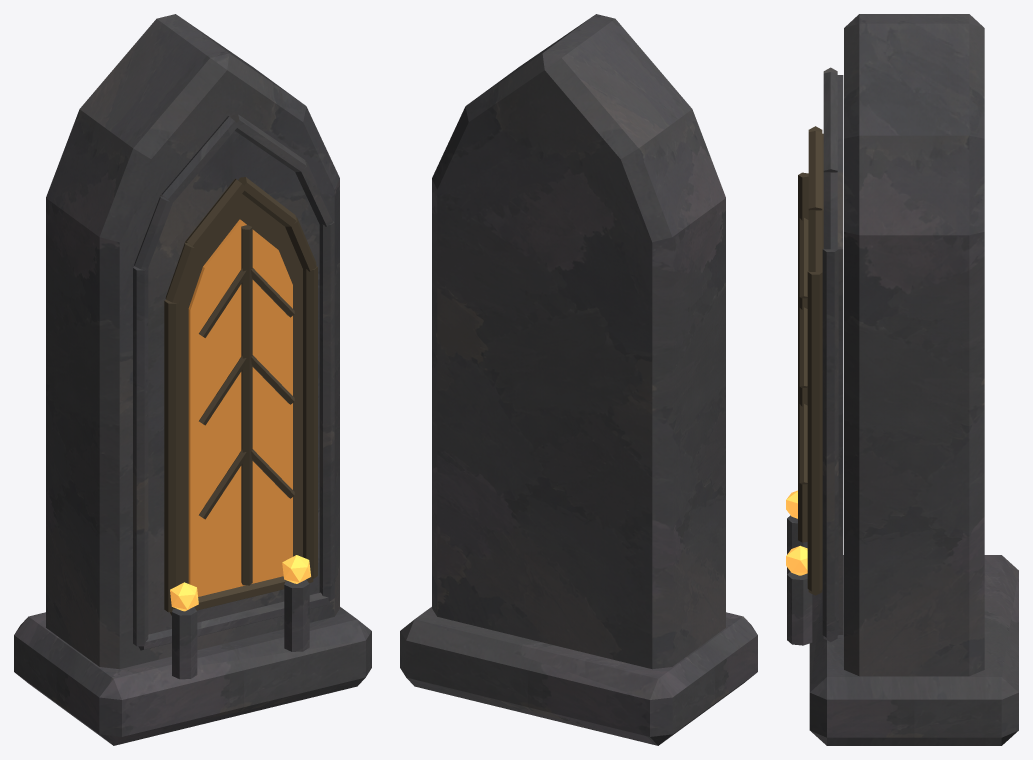
File: memorial.glb
The picture shows the model from 3 angles, left to right: view 1: azimuth 30°, elevation 25°; view 2: azimuth 150°, elevation 25°; view 3: azimuth 270°, elevation 25°; orthographic projection. The views are drawn at different scales.
Parts seen in each view (by area): view 1: memorial; view 2: memorial; view 3: memorial.
Boxes of the visible parts, x1,y1,x2,y2 form: memorial: [14, 14, 371, 745]; memorial: [400, 14, 757, 745]; memorial: [786, 14, 1018, 745].
Bounding box in the file's own units: 0.85 × 1.93 × 0.6124.
6 materials, 3 textured.
